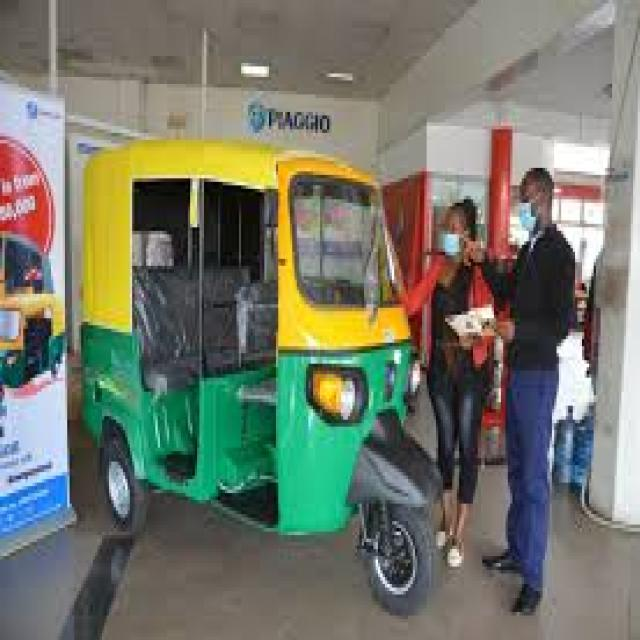tuktuk: (67, 91, 467, 630)
